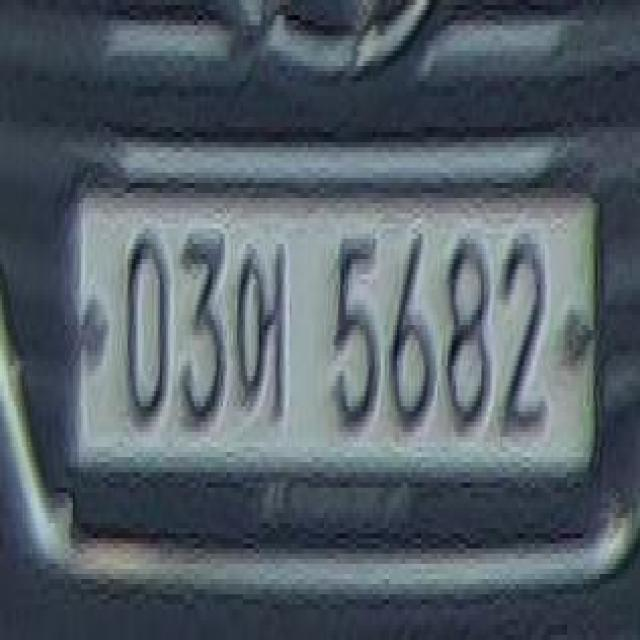illegal_plate: (70, 157, 606, 525)
